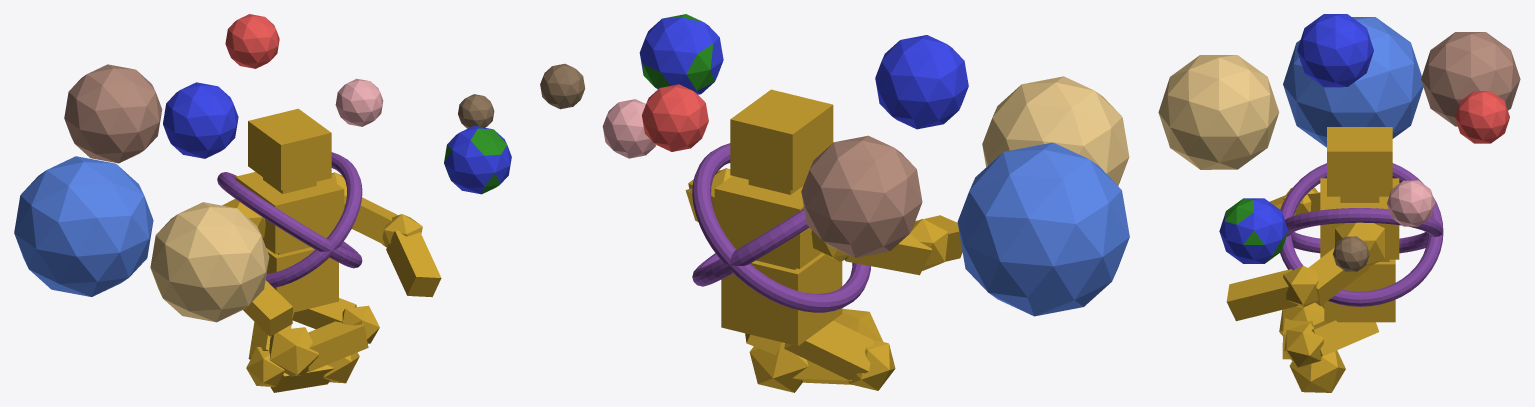
File: Krontrill.fbx
3 renders of one model, left to right at view 1: azimuth 30°, elevation 25°; view 2: azimuth 150°, elevation 25°; view 3: azimuth 270°, elevation 25°, orthographic. The views are drawn at different scales.
Visible parts, largest first — view 1: Cube.012, Cube.001; view 2: Cube.012, Cube.001; view 3: Cube.012, Cube.001.
Part boxes in pixels (x1,y1,x2,y2): Cube.012: [14, 14, 511, 322]; Cube.001: [217, 108, 441, 392]; Cube.012: [540, 14, 1129, 316]; Cube.001: [685, 89, 962, 392]; Cube.012: [1158, 14, 1520, 271]; Cube.001: [1226, 127, 1443, 392].
Size of the model in its own units: 1350 by 882 by 917.
